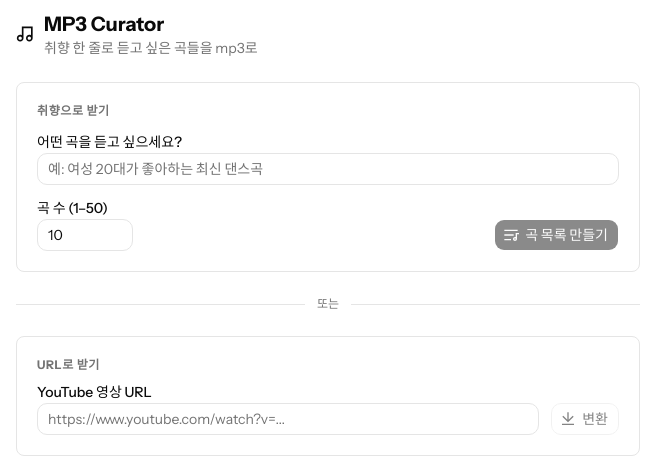
Test case: InputScreen › URL mode (Task 2) › enables 변환 when a plausible URL is typed
This screenshot has width=657, height=473.
Type "https://www.youtube.com/watch?v=abc" into the field labelled "YouTube 영상 URL".
click(288, 419); type("https://www.youtube.com/watch?v=abc")  # box left=37, top=403, right=539, bottom=435
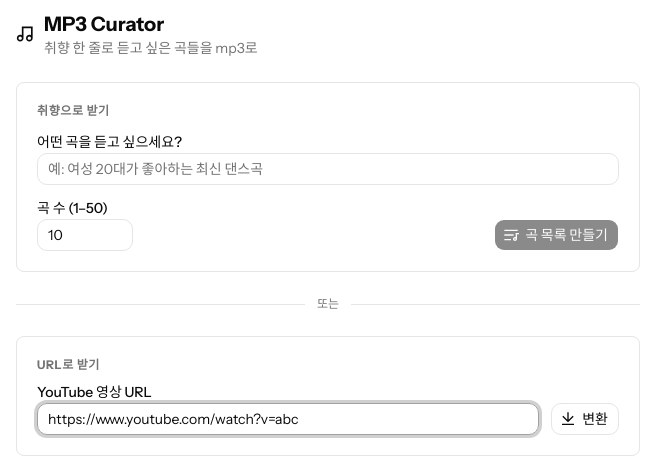
Now the button "변환" is enabled, box left=551, top=403, right=619, bottom=435
